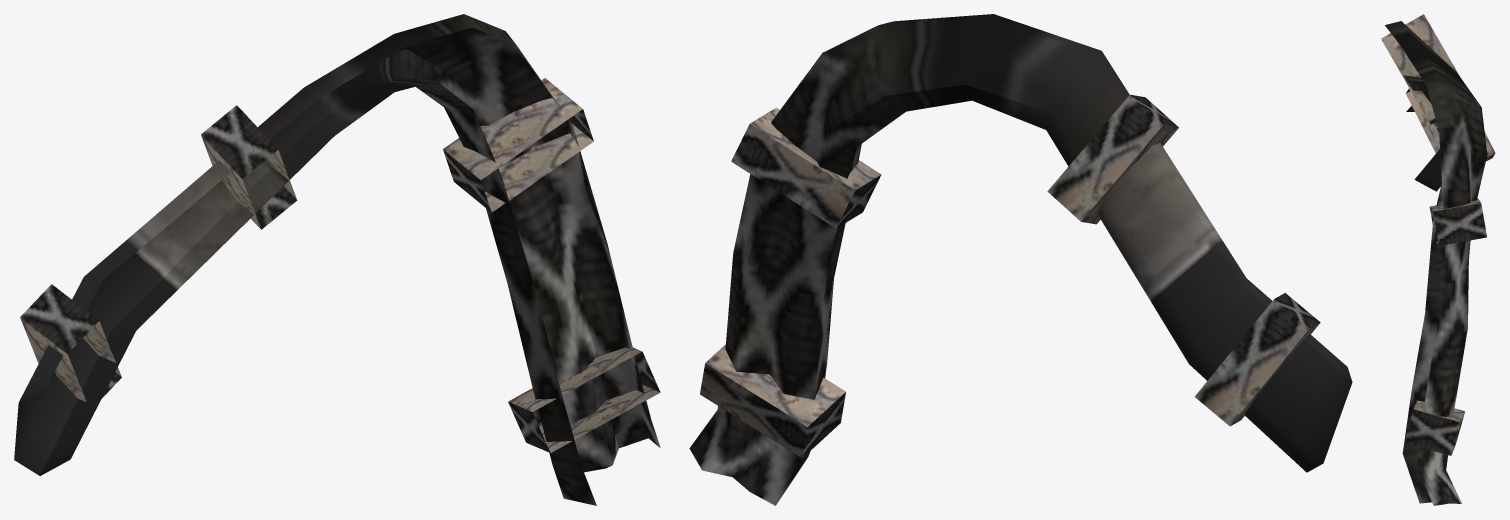
Rendered from p_glo_briefcase_bomb_wire_a.glb.
3 renders of one model, left to right at view 1: azimuth 30°, elevation 25°; view 2: azimuth 150°, elevation 25°; view 3: azimuth 270°, elevation 25°, orthographic. The views are drawn at different scales.
Parts seen in each view (by area): view 1: p_glo_briefcase_bomb_wire_a; view 2: p_glo_briefcase_bomb_wire_a; view 3: p_glo_briefcase_bomb_wire_a.
Part boxes in pixels (box(x1,y1,x2,y2)): p_glo_briefcase_bomb_wire_a: box(14, 14, 660, 505); p_glo_briefcase_bomb_wire_a: box(689, 14, 1352, 505); p_glo_briefcase_bomb_wire_a: box(1381, 14, 1495, 505).
Bounding box in the file's own units: 0.112 × 0.0863 × 0.0229.
Materials: 1 (1 with a texture image).
